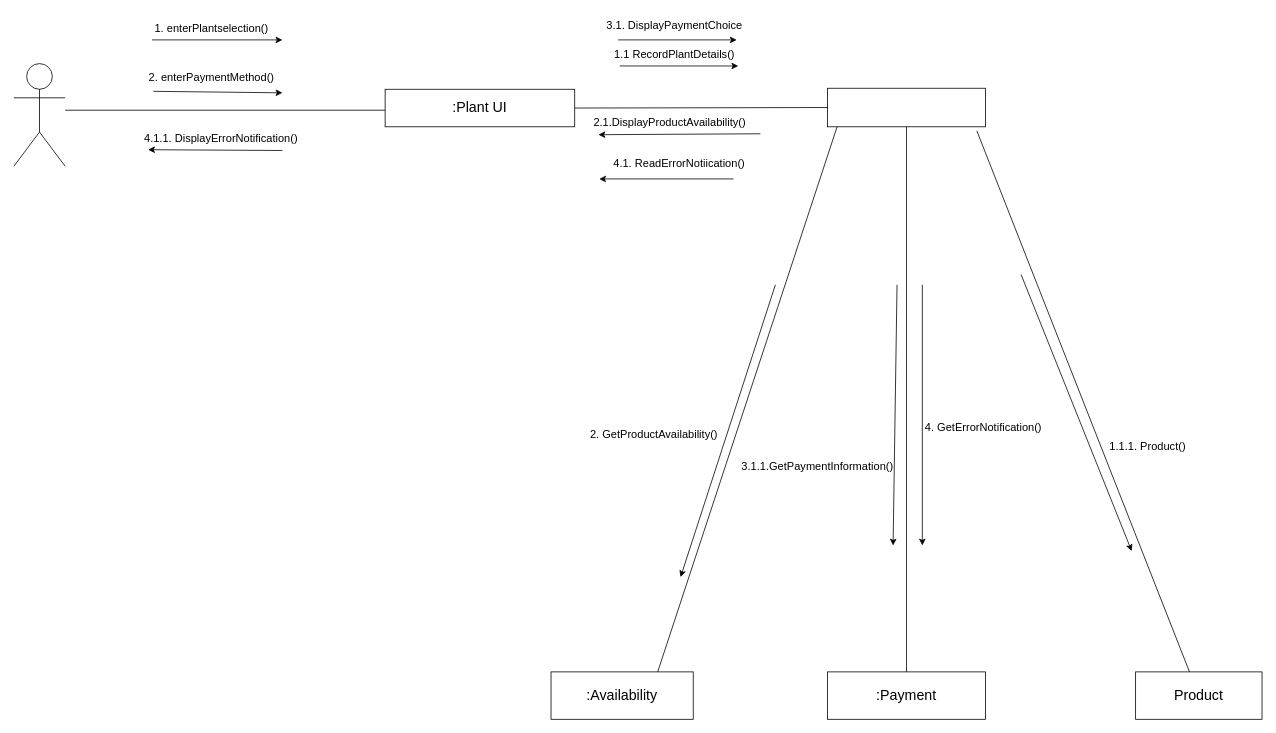
The diagram is 1276 pixels wide and 733 high, and some of its shapes have lost their labels. The shapes that lost their labels are listed below. From the top down, each one's centre as x and y in pixels, then its label:
At pixel 39 114: "User".
At pixel 906 107: ";UI Controller".
